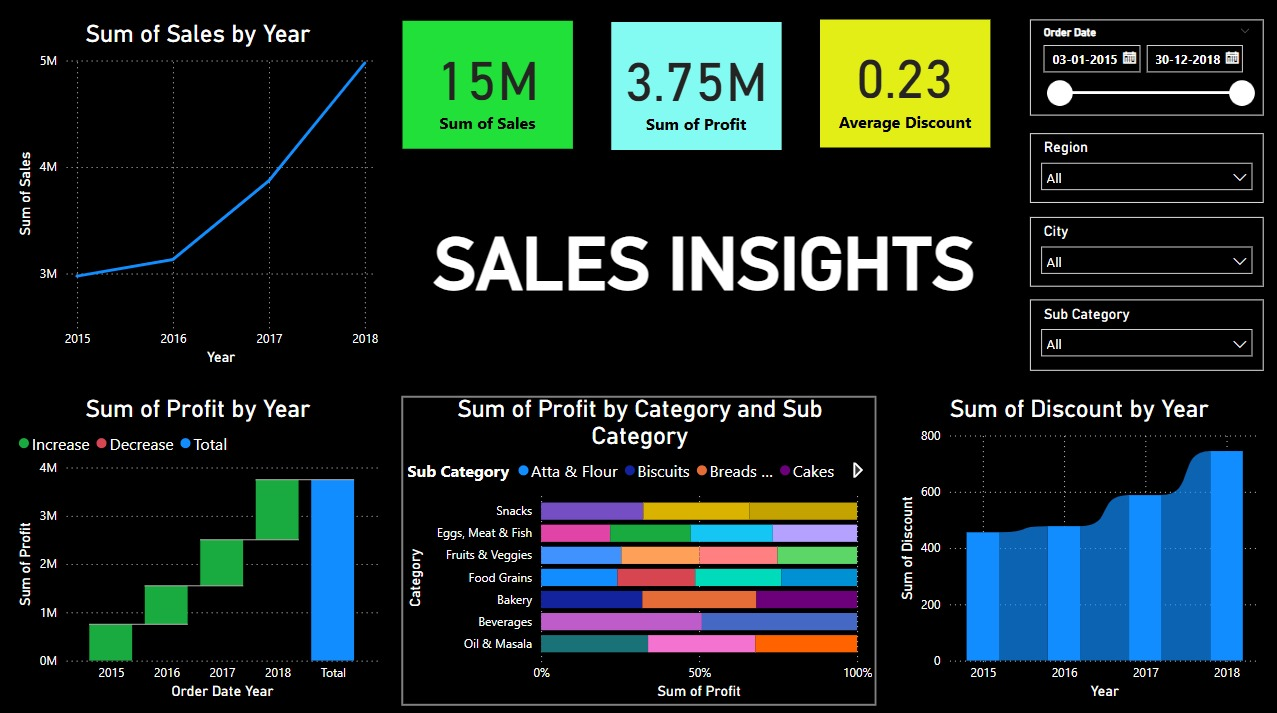

Layout of this report page (visuals, bound fields, positions):
{"tool":"powerbi","page":{"name":"Page 1","canvas":[1280,720],"ordinal":0},"visuals":[{"type":"textbox","box":[417.4,219.6,573.1,96.5],"z":0},{"type":"lineChart","fields":{"Category":["Supermart Grocery Sales - Retail Analytics Dataset.Order Date.Variation.Date Hierarchy.Year","Supermart Grocery Sales - Retail Analytics Dataset.Order Date.Variation.Date Hierarchy.Quarter","Supermart Grocery Sales - Retail Analytics Dataset.Order Date.Variation.Date Hierarchy.Month","Supermart Grocery Sales - Retail Analytics Dataset.Order Date.Variation.Date Hierarchy.Day"],"Y":["Sum(Supermart Grocery Sales - Retail Analytics Dataset.Sales)"]},"box":[12.3,22,370.5,351.3],"z":1000},{"type":"waterfallChart","fields":{"Category":["Supermart Grocery Sales - Retail Analytics Dataset.Order Date.Variation.Date Hierarchy.Year","Supermart Grocery Sales - Retail Analytics Dataset.Order Date.Variation.Date Hierarchy.Quarter","Supermart Grocery Sales - Retail Analytics Dataset.Order Date.Variation.Date Hierarchy.Month","Supermart Grocery Sales - Retail Analytics Dataset.Order Date.Variation.Date Hierarchy.Day"],"Y":["Sum(Supermart Grocery Sales - Retail Analytics Dataset.Profit)"]},"box":[12.3,397.9,370.5,310.1],"z":2000},{"type":"ribbonChart","fields":{"Category":["Supermart Grocery Sales - Retail Analytics Dataset.Order Date.Variation.Date Hierarchy.Year","Supermart Grocery Sales - Retail Analytics Dataset.Order Date.Variation.Date Hierarchy.Quarter","Supermart Grocery Sales - Retail Analytics Dataset.Order Date.Variation.Date Hierarchy.Month","Supermart Grocery Sales - Retail Analytics Dataset.Order Date.Variation.Date Hierarchy.Day"],"Y":["Sum(Supermart Grocery Sales - Retail Analytics Dataset.Discount)"]},"box":[893.3,397.9,370.5,310.1],"z":3000},{"type":"slicer","fields":{"Values":["Supermart Grocery Sales - Retail Analytics Dataset.City"]},"box":[1030.5,219.6,233.3,70],"z":4000},{"type":"slicer","fields":{"Values":["Supermart Grocery Sales - Retail Analytics Dataset.Sub Category"]},"box":[1030.5,301.9,233.3,71.4],"z":5000},{"type":"slicer","fields":{"Values":["Supermart Grocery Sales - Retail Analytics Dataset.Region"]},"box":[1030.5,135.8,233.3,70],"z":6000},{"type":"hundredPercentStackedBarChart","fields":{"Category":["Supermart Grocery Sales - Retail Analytics Dataset.Category"],"Series":["Supermart Grocery Sales - Retail Analytics Dataset.Sub Category"],"Y":["Sum(Supermart Grocery Sales - Retail Analytics Dataset.Profit)"]},"box":[402.1,397.9,474.8,310.1],"z":7000},{"type":"slicer","title":"Date Wise Slice","fields":{"Values":["Supermart Grocery Sales - Retail Analytics Dataset.Order Date"]},"box":[1030.5,22,233.3,96.1],"z":8000},{"type":"card","fields":{"Values":["Sum(Supermart Grocery Sales - Retail Analytics Dataset.Sales)"]},"box":[402.1,23.3,170.2,127.6],"z":9000},{"type":"card","fields":{"Values":["Sum(Supermart Grocery Sales - Retail Analytics Dataset.Profit)"]},"box":[610.6,24.7,170.2,127.6],"z":10000},{"type":"card","fields":{"Values":["Supermart Grocery Sales - Retail Analytics Dataset.Measure"]},"box":[820.6,22,170.2,127.6],"z":11000},{"type":"shape","box":[394.6,389.3,491.1,319],"z":12000}]}

Visuals, with their boxes in screenshot pixels (x1, y1, x2, y2), scaled from the page's 1280x720 canvas onto the 1277x713 screenshot:
textbox: l=416, t=217, r=988, b=313
lineChart - Supermart Grocery Sales - Retail Analytics Dataset.Order Date.Variation.Date Hierarchy.Year x Supermart Grocery Sales - Retail Analytics Dataset.Order Date.Variation.Date Hierarchy.Quarter: l=12, t=22, r=382, b=370
waterfallChart - Supermart Grocery Sales - Retail Analytics Dataset.Order Date.Variation.Date Hierarchy.Year x Supermart Grocery Sales - Retail Analytics Dataset.Order Date.Variation.Date Hierarchy.Quarter: l=12, t=394, r=382, b=701
ribbonChart - Supermart Grocery Sales - Retail Analytics Dataset.Order Date.Variation.Date Hierarchy.Year x Supermart Grocery Sales - Retail Analytics Dataset.Order Date.Variation.Date Hierarchy.Quarter: l=891, t=394, r=1261, b=701
slicer - Supermart Grocery Sales - Retail Analytics Dataset.City: l=1028, t=217, r=1261, b=287
slicer - Supermart Grocery Sales - Retail Analytics Dataset.Sub Category: l=1028, t=299, r=1261, b=370
slicer - Supermart Grocery Sales - Retail Analytics Dataset.Region: l=1028, t=134, r=1261, b=204
hundredPercentStackedBarChart - Supermart Grocery Sales - Retail Analytics Dataset.Category x Supermart Grocery Sales - Retail Analytics Dataset.Sub Category: l=401, t=394, r=875, b=701
"Date Wise Slice" slicer: l=1028, t=22, r=1261, b=117
card - Sum(Supermart Grocery Sales - Retail Analytics Dataset.Sales): l=401, t=23, r=571, b=149
card - Sum(Supermart Grocery Sales - Retail Analytics Dataset.Profit): l=609, t=24, r=779, b=151
card - Supermart Grocery Sales - Retail Analytics Dataset.Measure: l=819, t=22, r=988, b=148
shape: l=394, t=386, r=884, b=701
